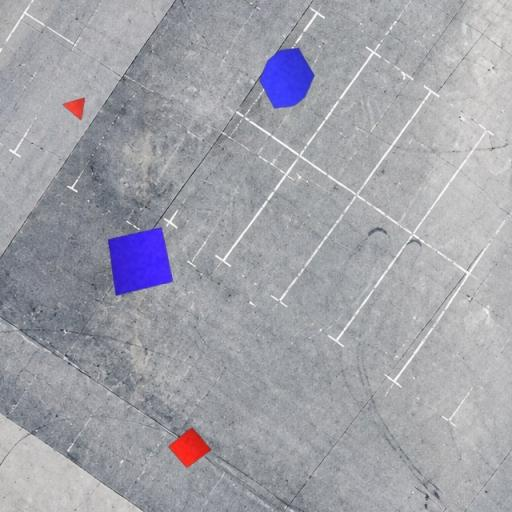BLUE_SQUARE: (107, 226, 174, 296)
RED_SQUARE: (167, 426, 212, 469)
